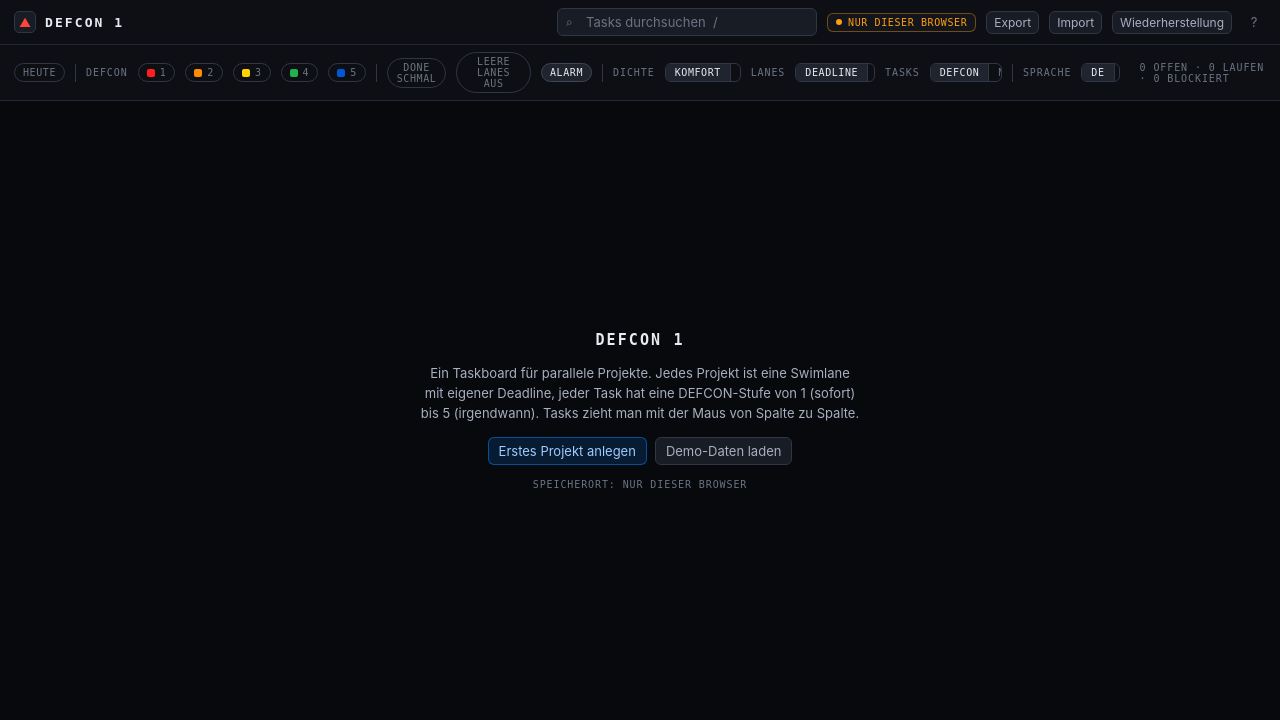
App › opens a focused card with Enter without starting a drag
Click the button "Demo-Daten laden". click: (724, 451)
box: x1=655 y1=437 x2=792 y2=465
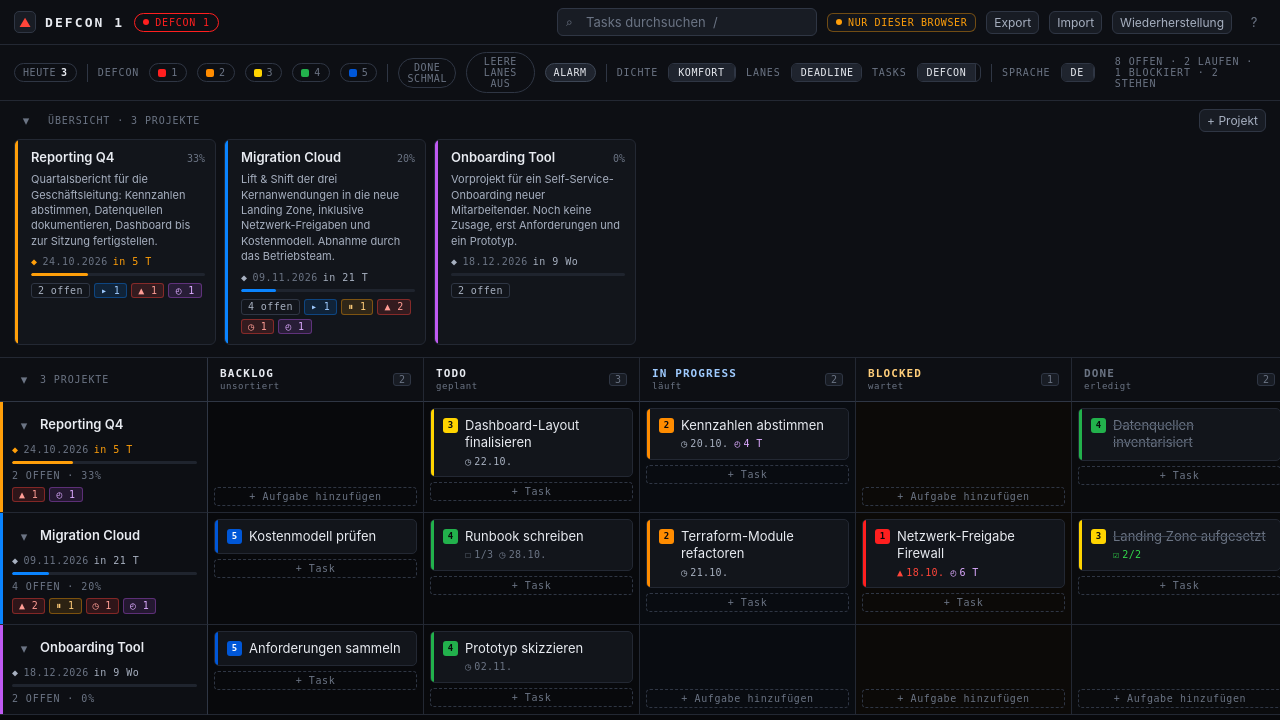
Expected: the button "5 Kostenmodell prüfen" is shown
Click the button "5 Kostenmodell prüfen". click: (316, 536)
box: x1=214 y1=519 x2=417 y2=554
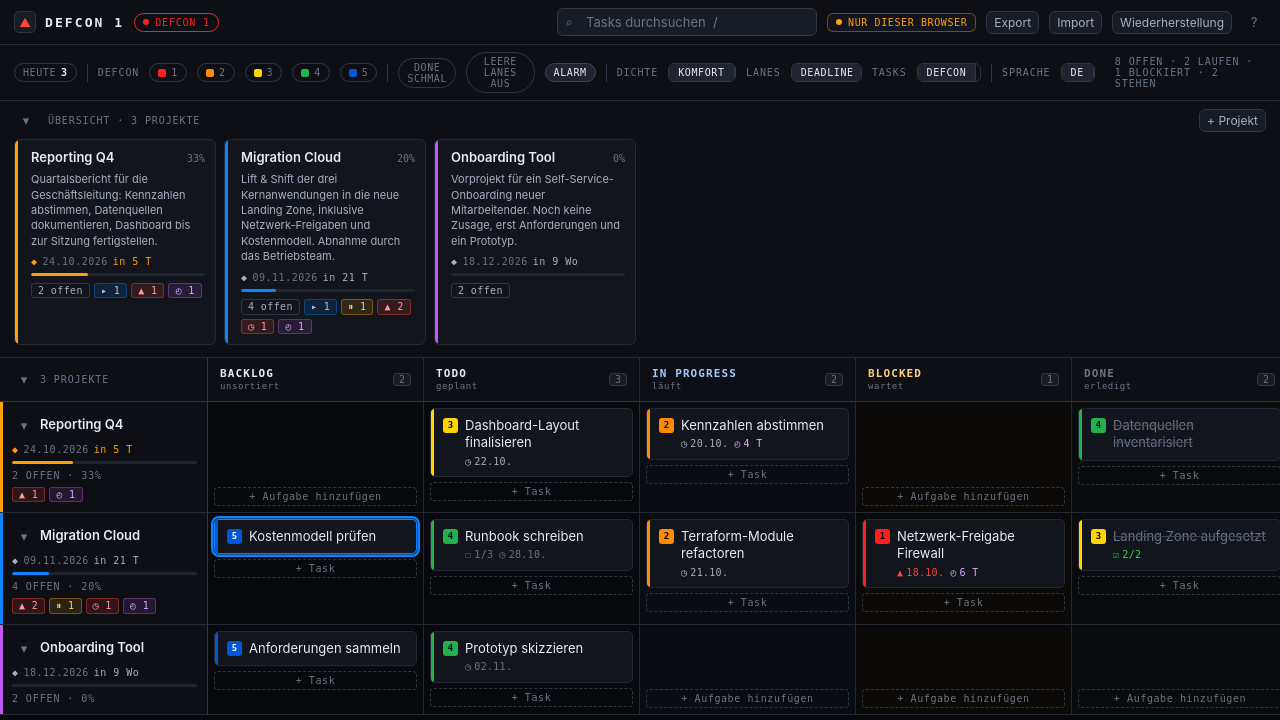
Press Enter
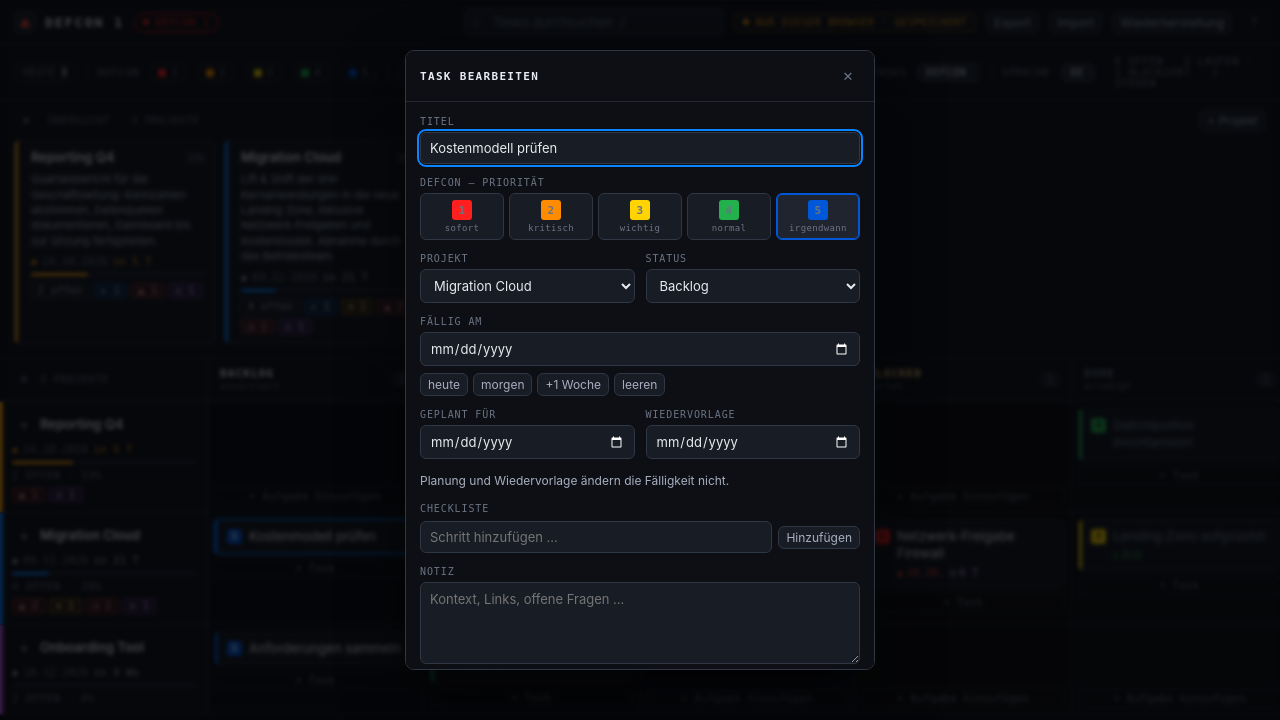
Expected: the dialog is shown, x1=405 y1=50 x2=875 y2=670
